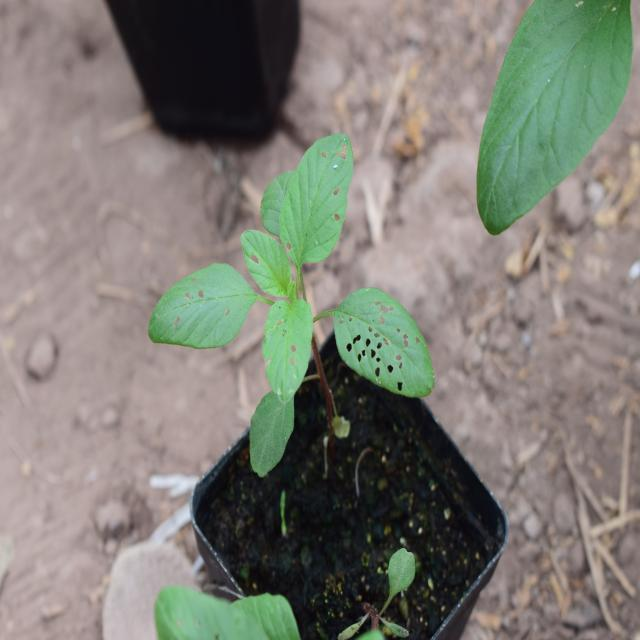pigweed: (173, 120, 414, 471)
